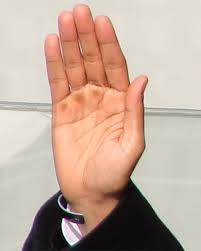palm: (56, 96, 134, 198)
